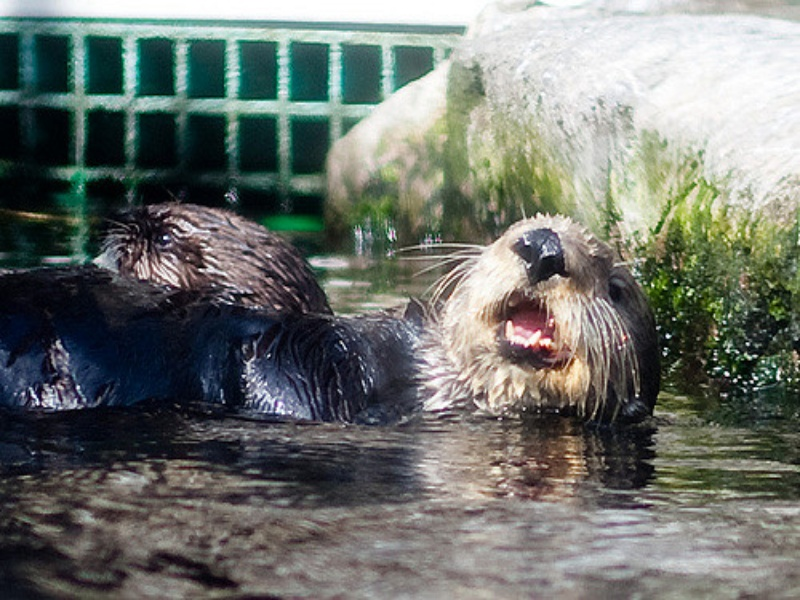minkish: (4, 208, 665, 432)
